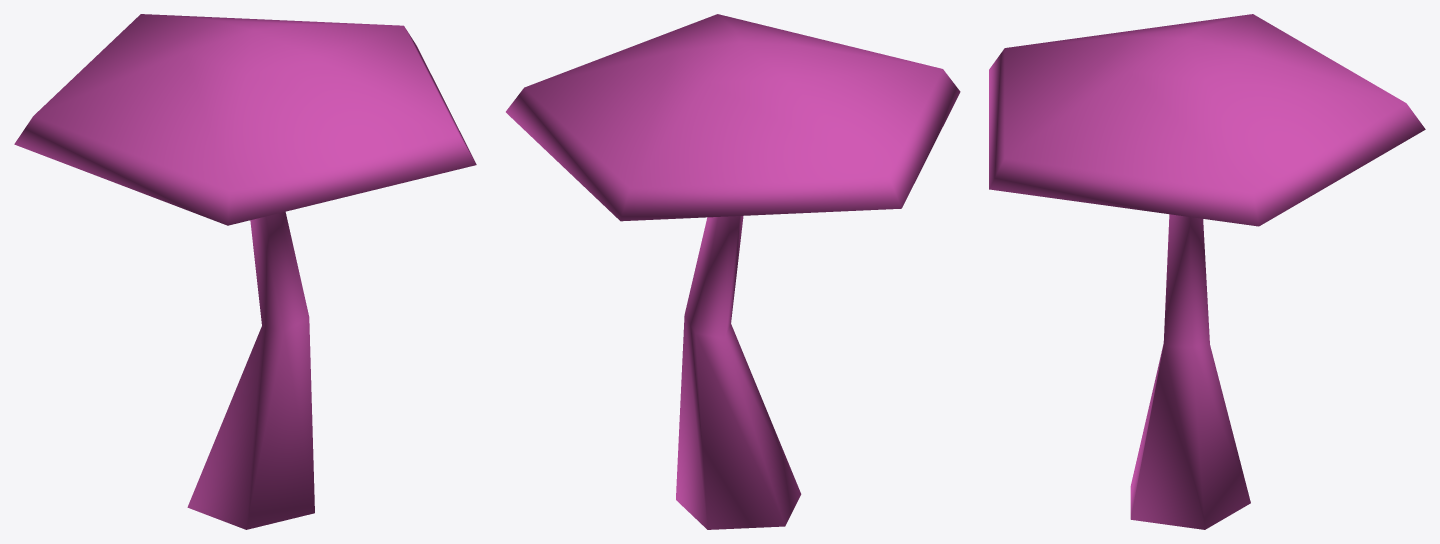
Rendered from fungus pink tiny.obj.
3 views of the same model, side by side, from view 1: azimuth 30°, elevation 25°; view 2: azimuth 150°, elevation 25°; view 3: azimuth 270°, elevation 25° (orthographic).
Parts seen in each view (by area): view 1: fungo.047; view 2: fungo.047; view 3: fungo.047.
Part boxes in pixels (x1,y1,x2,y2): fungo.047: (14,14,476,529); fungo.047: (506,14,960,529); fungo.047: (989,14,1425,529).
Size of the model in its own units: 0.3083 by 0.3444 by 0.2932.
